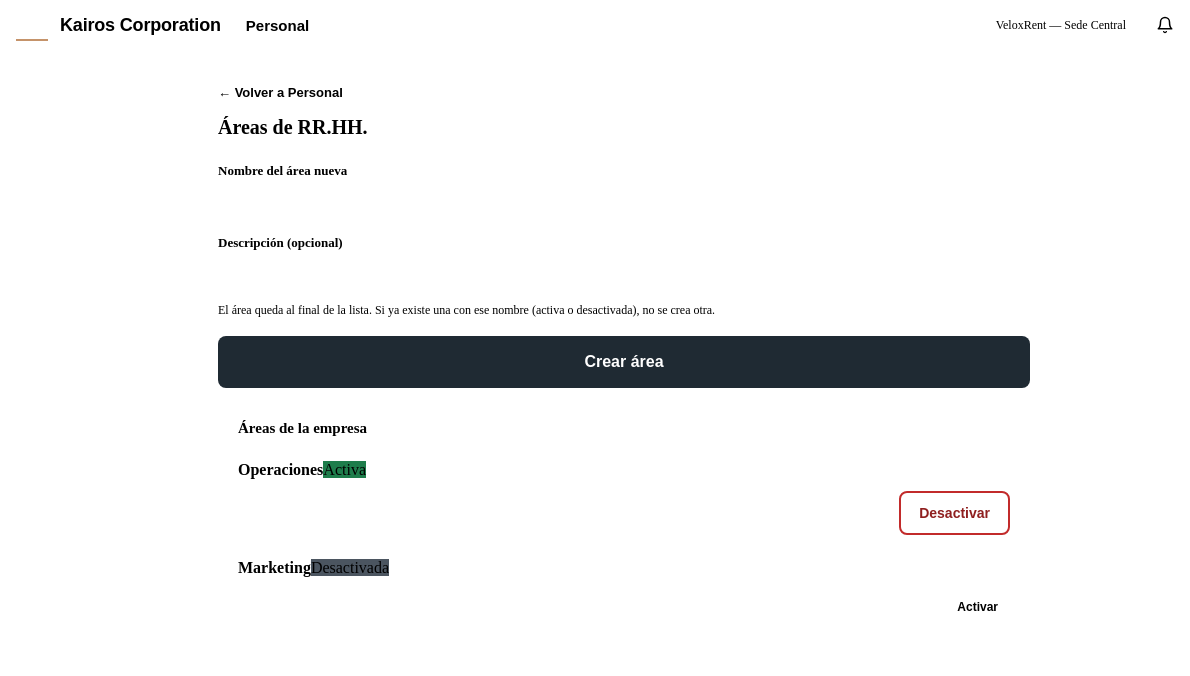
it: AreasScreen (gestión de áreas de RR.HH.) › mapea 409 HR_AREA_IN_USE al desactivar
The image size is (1190, 676).
Click the button with aria-label "Desactivar el área Operaciones" at (955, 513), box [899,491,1010,535]
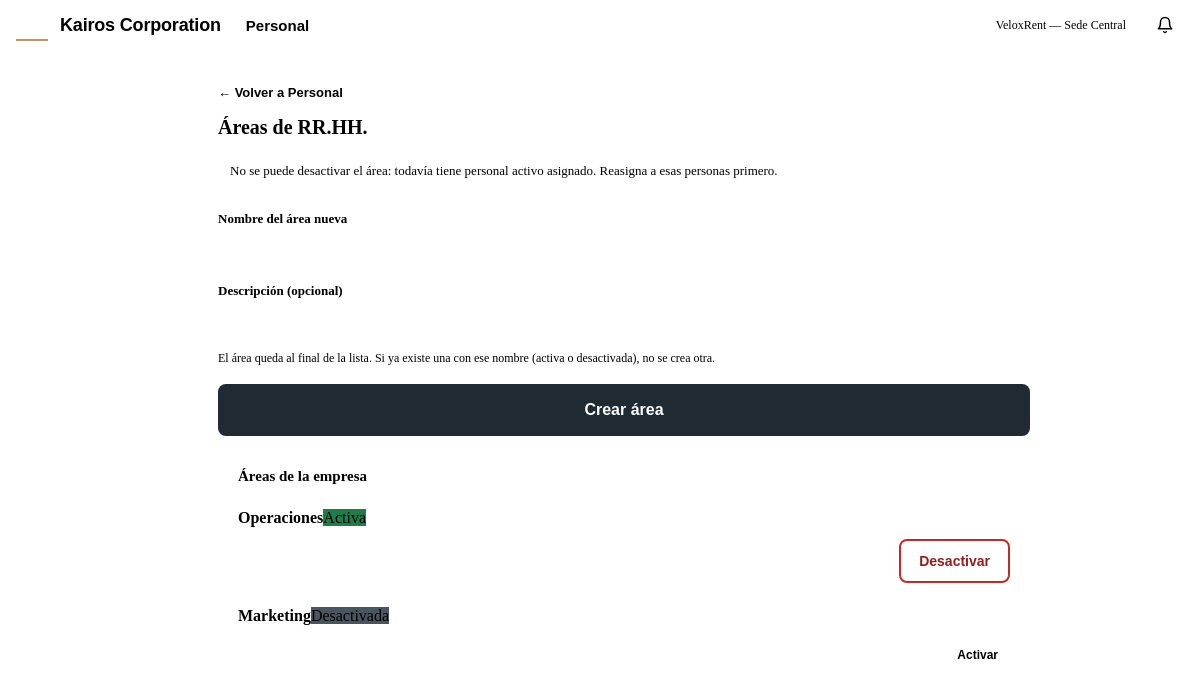
Now the message shows "todavía tiene personal activo", box [230,163,778,178]
